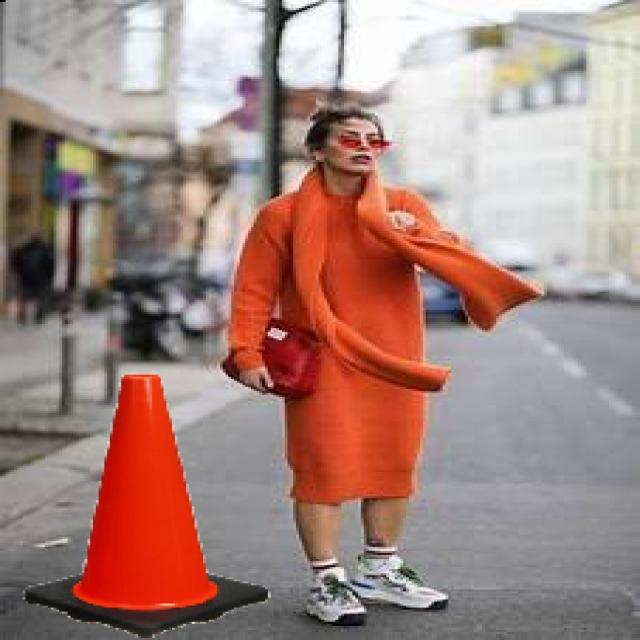traffic cone: (18, 368, 282, 637)
